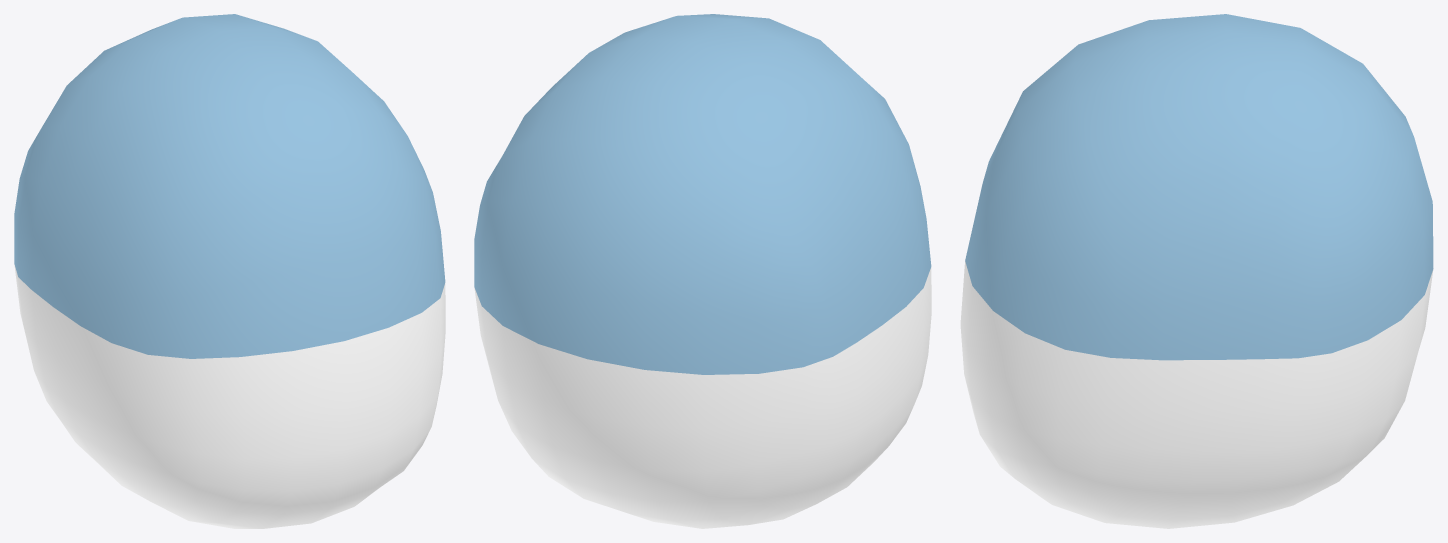
The model's file is head_round.glb.
3 views of the same model, side by side, from view 1: azimuth 30°, elevation 25°; view 2: azimuth 150°, elevation 25°; view 3: azimuth 270°, elevation 25° (orthographic). The views are drawn at different scales.
Visible parts, largest first — view 1: head_narrow_01.005; view 2: head_narrow_01.005; view 3: head_narrow_01.005.
Boxes of the visible parts, <box> form: head_narrow_01.005: <box>14,14,445,528</box>; head_narrow_01.005: <box>474,14,931,528</box>; head_narrow_01.005: <box>960,14,1433,528</box>.
Bounding box in the file's own units: 1.23 × 1.54 × 1.39.
